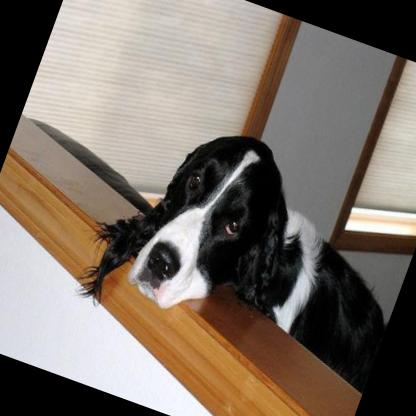English_springer: (69, 95, 416, 400)
